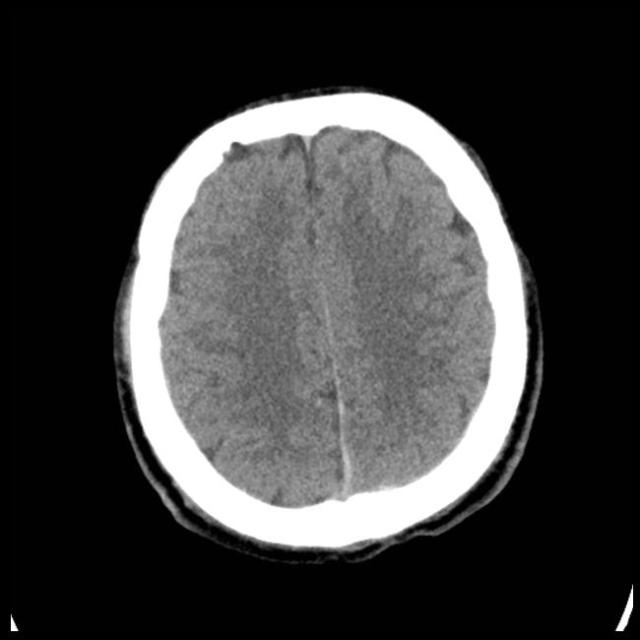lesion: (112, 84, 546, 564)
